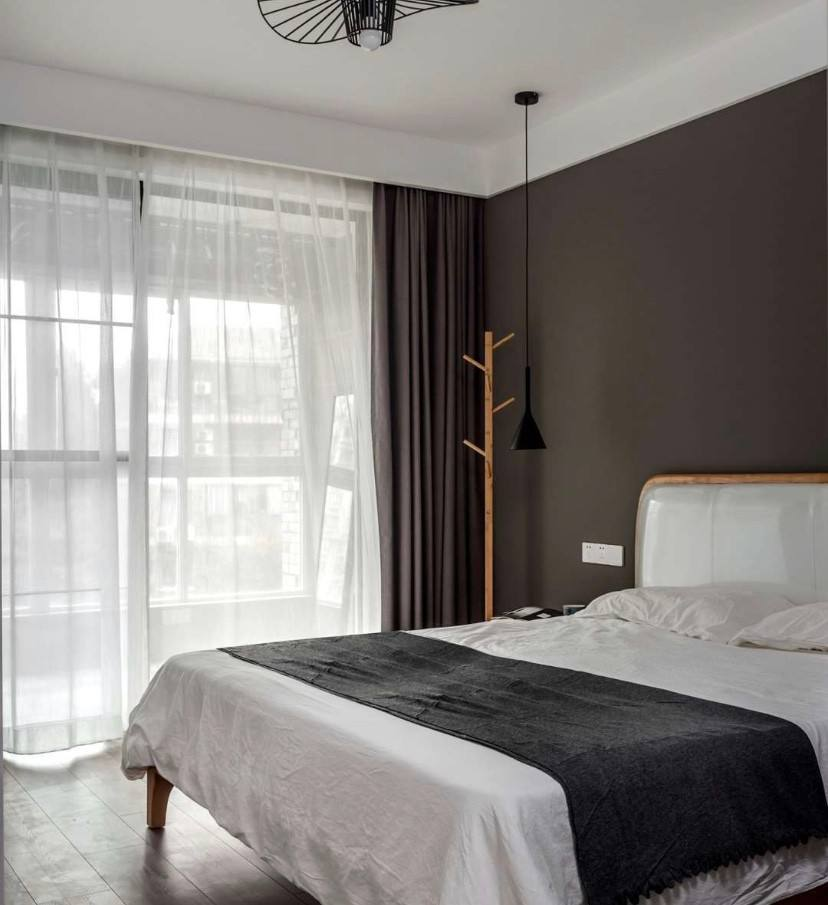床: (130, 611, 828, 905)
枕头: (588, 589, 822, 660)
灯: (505, 85, 546, 447), (254, 0, 407, 53)
